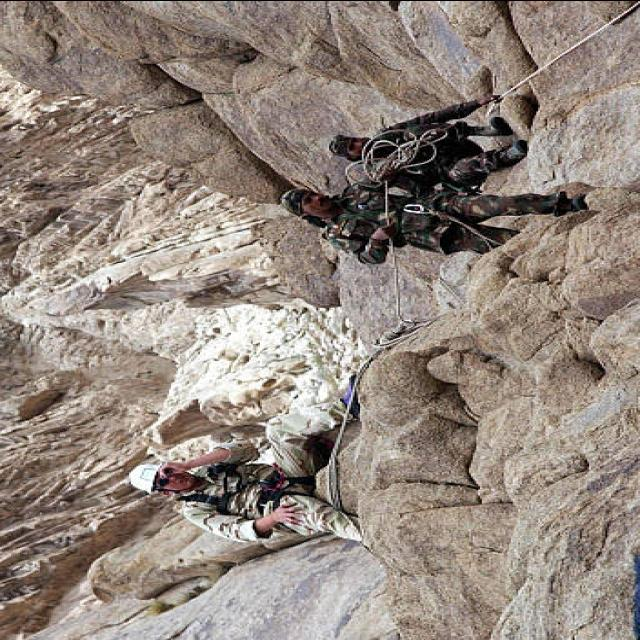soldier: (133, 376, 360, 540), (280, 184, 584, 263), (328, 95, 528, 196)
